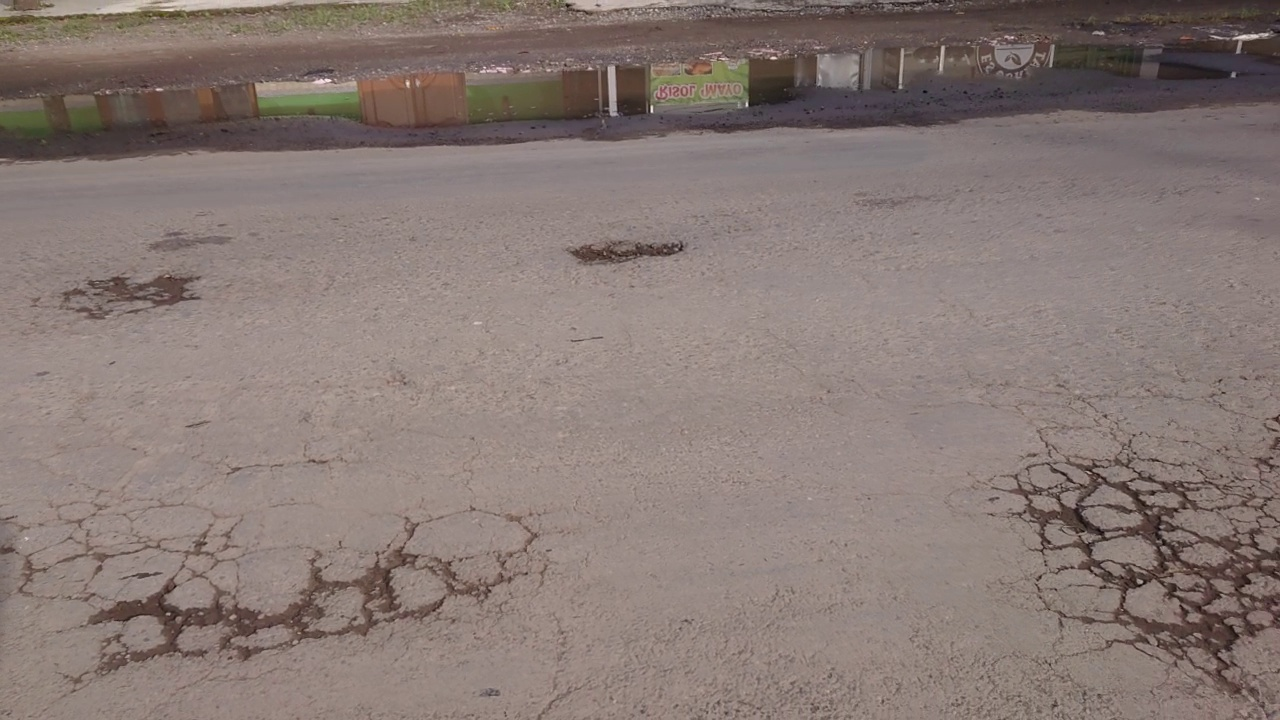Retak: (986, 454, 1280, 704), (41, 523, 563, 644), (68, 271, 225, 323), (530, 249, 686, 263)
